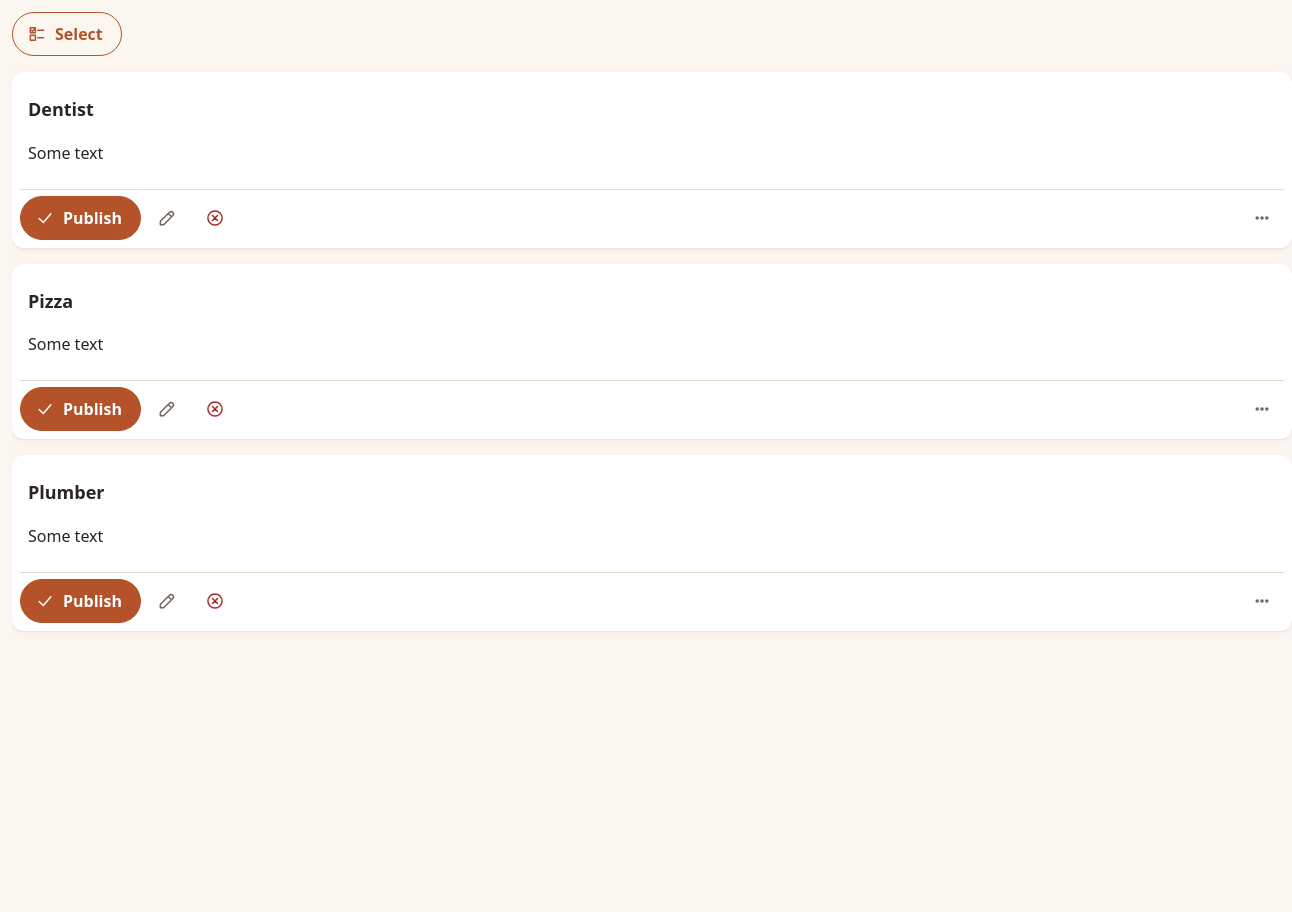
Test: ReviewQueue › select mode (D191) › selects all shown, publishes them and lists the skipped ones
Click the button "Select" at (67, 34), box [12,12,122,56]
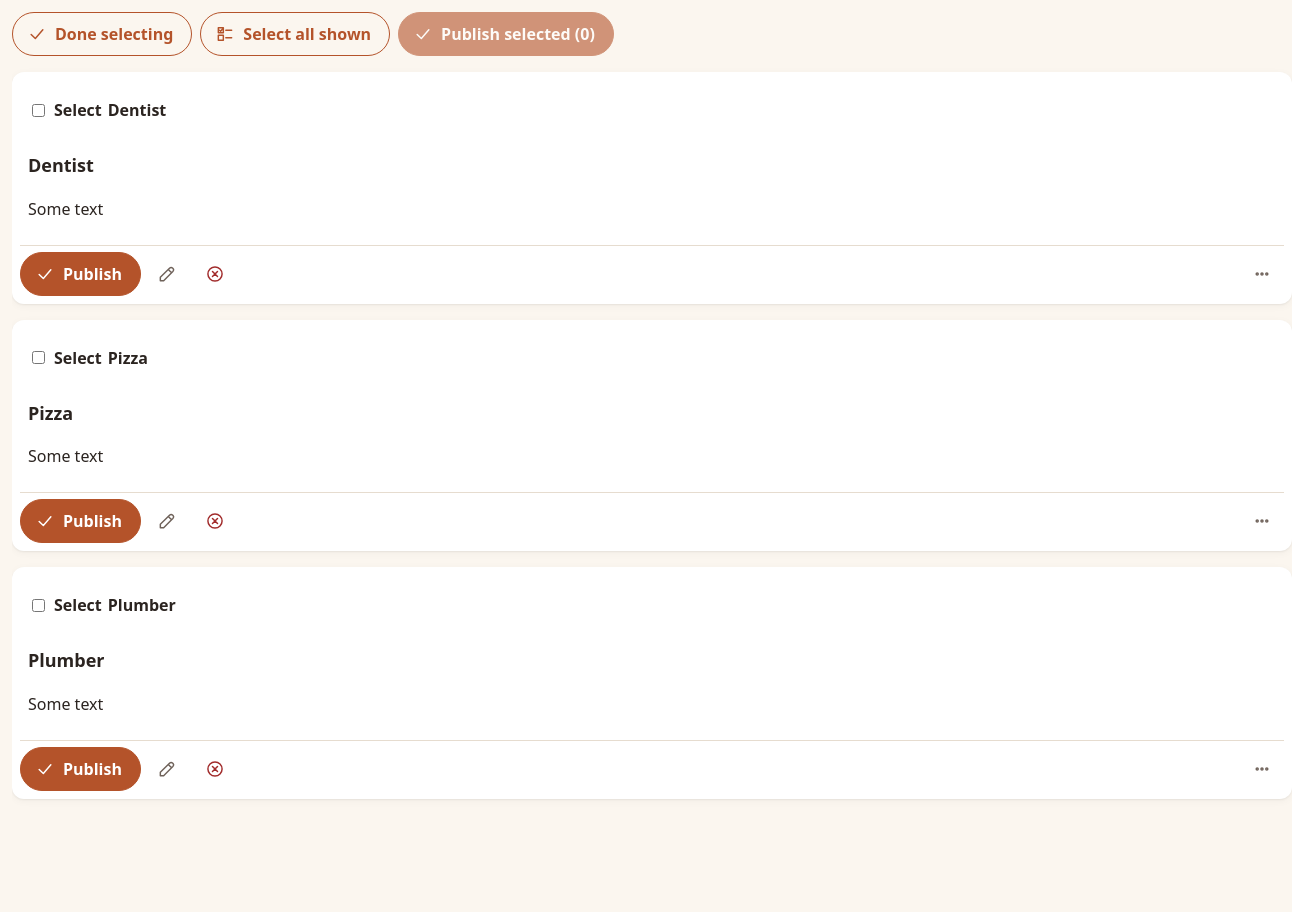
Click the button "Select all shown" at (295, 34), box [200,12,390,56]
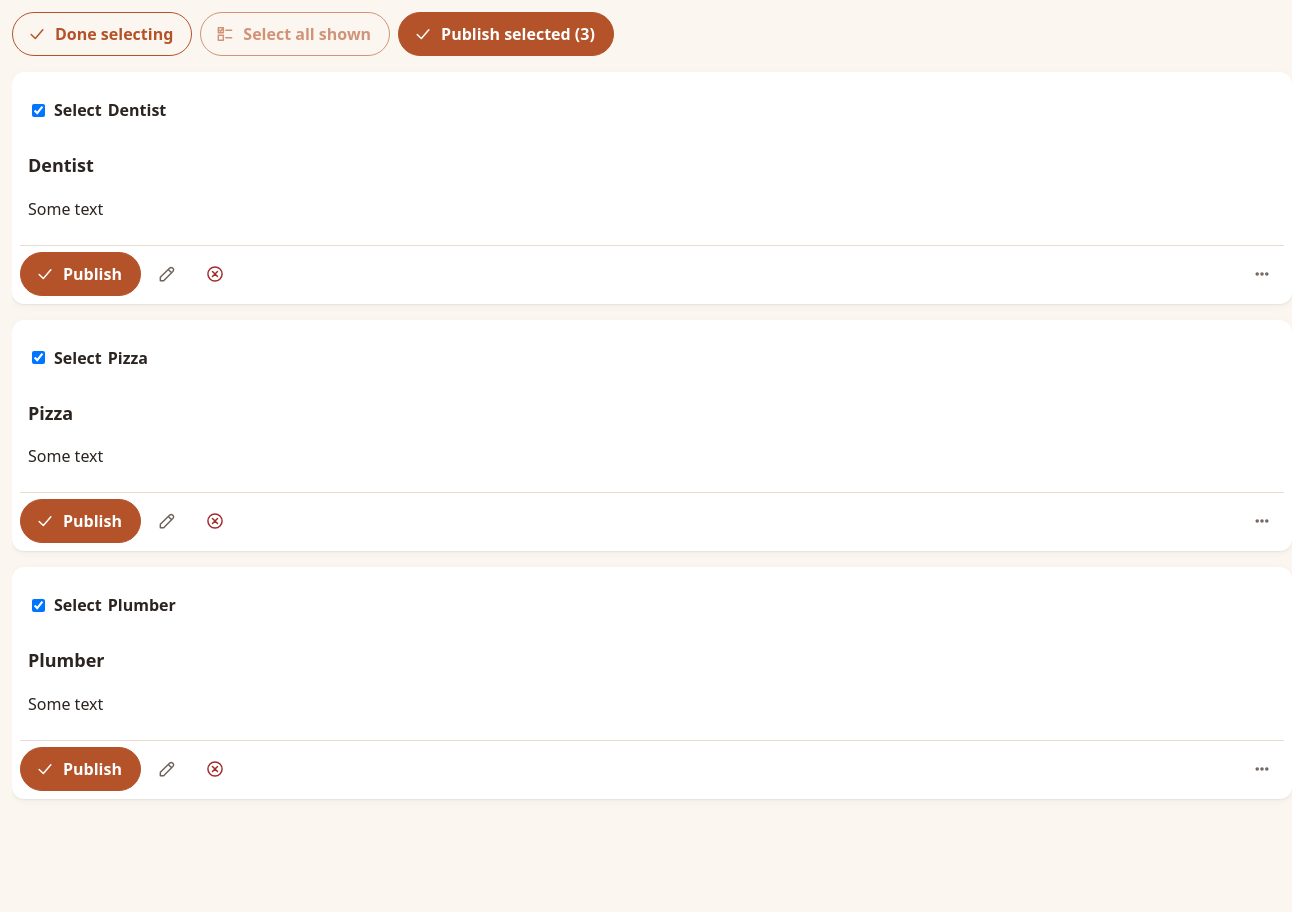
Click the button "Publish selected (3)" at (506, 34), box [398,12,614,56]
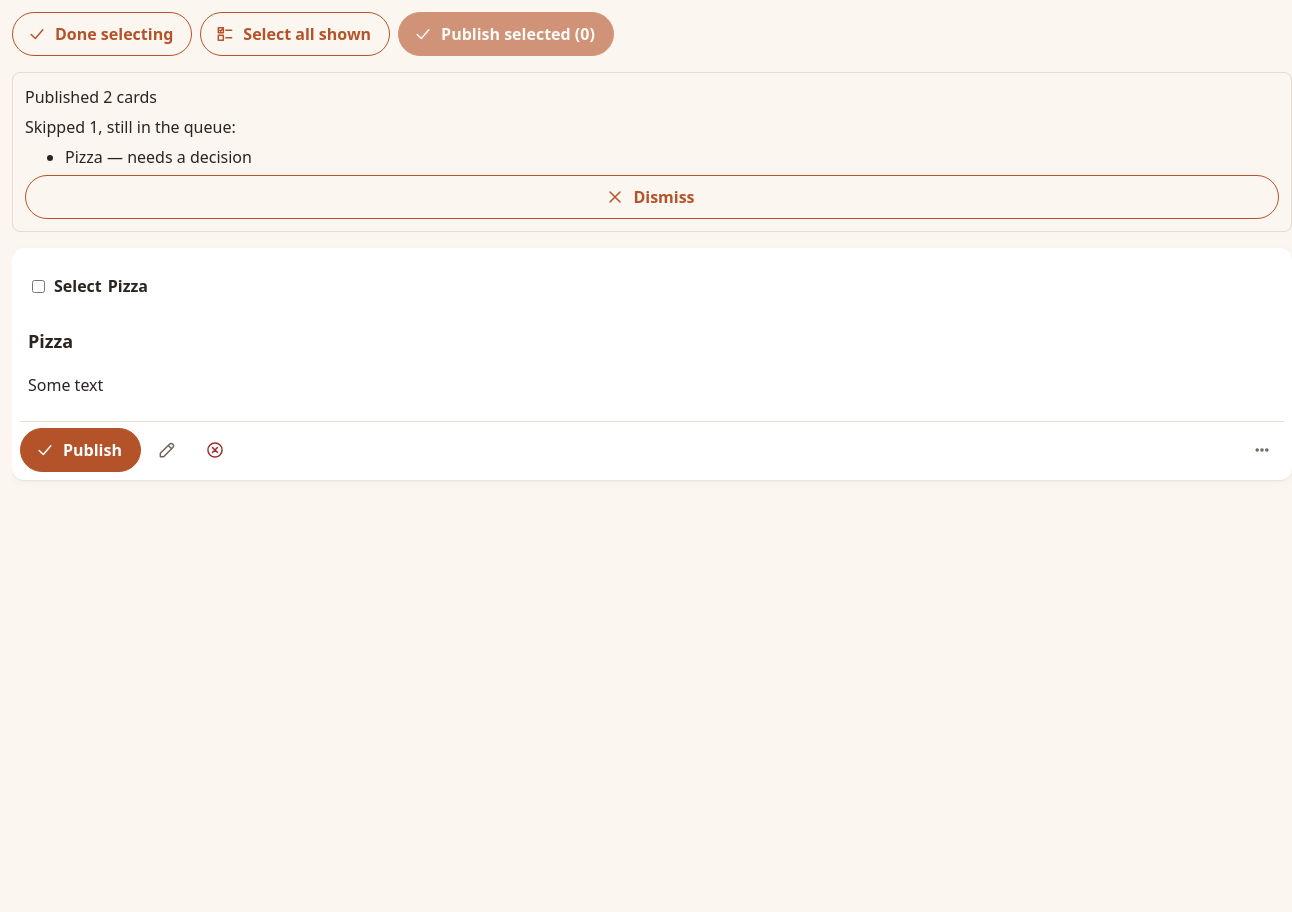
Check: the text "Published 2 cards" is shown, box [25,86,157,108]
Check: the message shows "Pizza — needs a decision", box [12,72,1291,232]
Check: the text "Dentist" is gone
